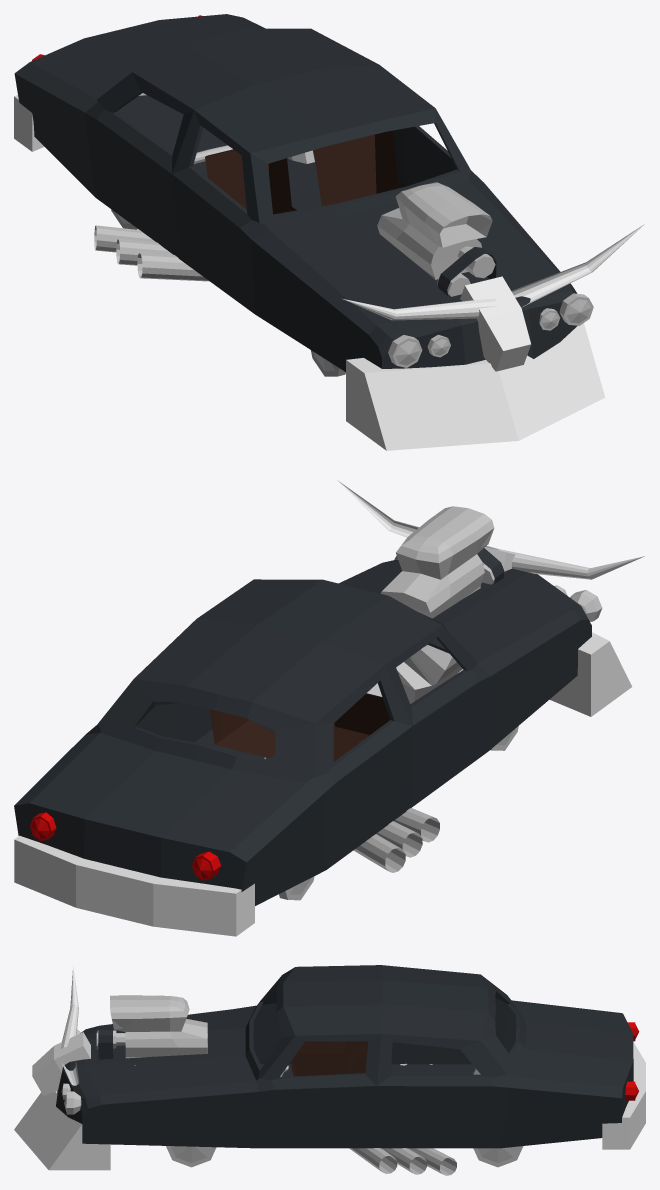
File: interceptor.glb
The picture shows the model from 3 angles, top to bottom: view 1: azimuth 30°, elevation 25°; view 2: azimuth 150°, elevation 25°; view 3: azimuth 270°, elevation 25°; orthographic projection. The views are drawn at different scales.
Visible parts, largest first — view 1: Cube.041, Cube.042, Cylinder.038, Cube.043, Cube.055, Plane.048, Cube.056, Cube.044, Cylinder.040, Cylinder.039, Cylinder.037, front axle.008; view 2: Cube.041, Cube.044, Cylinder.038, Cube.042, Plane.048, Cube.043, Cube.056, Cube.055; view 3: Cube.041, Cylinder.038, Cube.042, Cube.043, Plane.049, Cube.044, Cube.056, front axle.009, front axle.008, Cube.055, Cylinder.037, Cylinder.040.
Boxes of the visible parts, x1,y1,x2,y2 form: Cube.041: (14, 14, 577, 371); Cube.042: (346, 323, 605, 450); Cylinder.038: (377, 182, 495, 296); Cube.043: (343, 224, 644, 371); Cube.055: (313, 130, 406, 206); Plane.048: (94, 225, 209, 281); Cube.056: (205, 149, 296, 214); Cube.044: (14, 93, 146, 151); Cylinder.040: (559, 293, 593, 325); Cylinder.039: (388, 335, 422, 367); Cylinder.037: (437, 247, 496, 295); front axle.008: (111, 145, 314, 229); Cube.041: (14, 560, 591, 905); Cube.044: (14, 835, 254, 936); Cylinder.038: (367, 506, 505, 703); Cube.042: (549, 632, 632, 716); Plane.048: (353, 808, 439, 872); Cube.043: (337, 480, 644, 579); Cube.056: (333, 693, 389, 761); Cube.055: (209, 709, 275, 758); Cube.041: (56, 965, 633, 1148); Cylinder.038: (96, 995, 207, 1065); Cube.042: (14, 1091, 110, 1170); Cube.043: (32, 966, 90, 1095); Plane.049: (349, 1148, 456, 1175); Cube.044: (602, 1042, 645, 1149); Cube.056: (291, 1041, 367, 1076); front axle.009: (166, 1146, 216, 1167); front axle.008: (472, 1068, 523, 1167); Cube.055: (346, 1043, 367, 1073); Cylinder.037: (98, 1029, 113, 1059); Cylinder.040: (64, 1091, 81, 1114).
Bounding box in the file's own units: 3.55 × 2.05 × 8.25.
